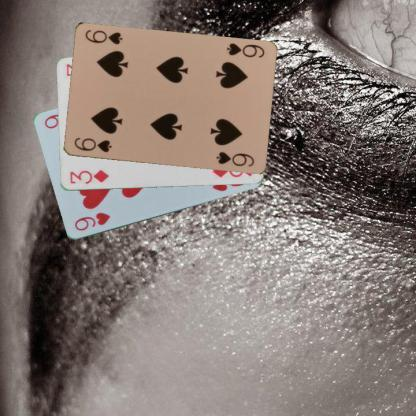3d: (67, 166, 110, 186)
6s: (223, 40, 266, 60), (71, 135, 113, 154)
9h: (72, 210, 112, 232)
